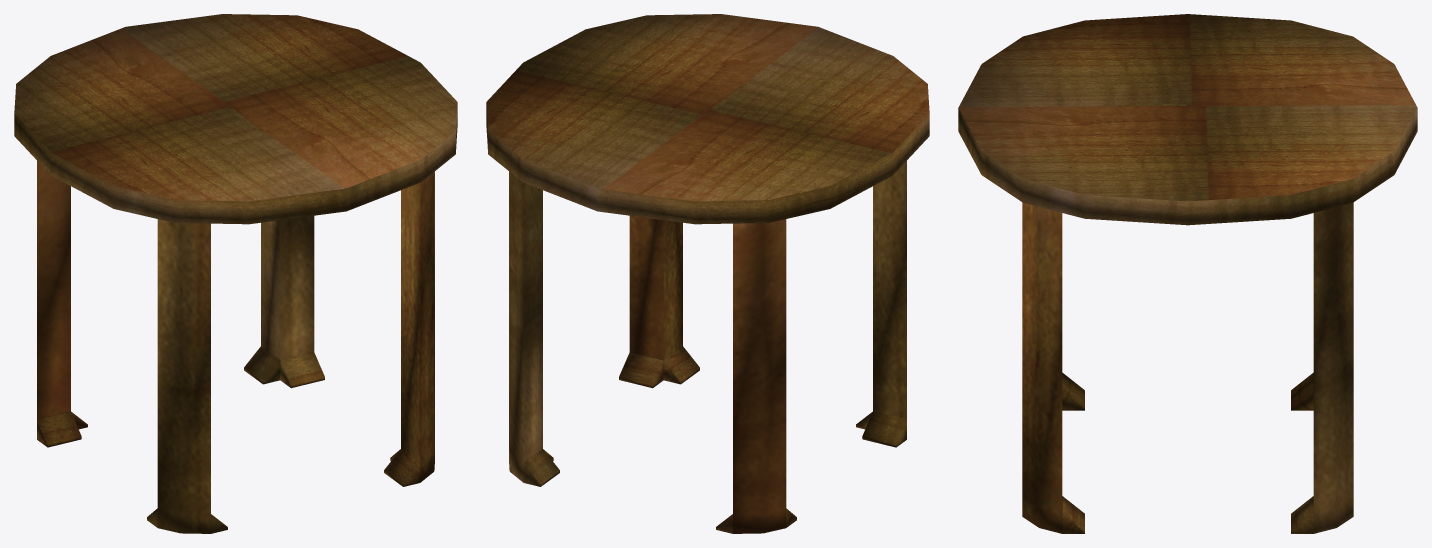
The model's file is Table.fbx.
The picture shows the model from 3 angles, left to right: view 1: azimuth 30°, elevation 25°; view 2: azimuth 150°, elevation 25°; view 3: azimuth 270°, elevation 25°; orthographic projection. The views are drawn at different scales.
Parts seen in each view (by area): view 1: Table; view 2: Table; view 3: Table.
Boxes of the visible parts, x1,y1,x2,y2 form: Table: (14, 14, 457, 533); Table: (486, 14, 929, 533); Table: (958, 14, 1417, 533).
Size of the model in its own units: 1.17 by 1.04 by 1.21.
